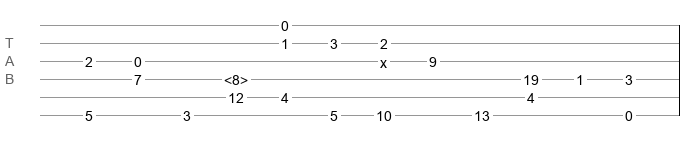0: (134, 54, 142, 64), (281, 18, 289, 28), (625, 108, 633, 118)
1: (281, 36, 289, 46), (576, 72, 584, 82)
10: (376, 108, 392, 118)
12: (228, 90, 244, 100)
13: (474, 108, 490, 118)
19: (523, 72, 539, 82)
2: (85, 54, 93, 64), (380, 36, 388, 46)
3: (183, 108, 191, 118), (330, 36, 338, 46), (625, 72, 633, 82)
4: (281, 90, 289, 100), (527, 90, 535, 100)
5: (85, 108, 93, 118), (330, 108, 338, 118)
7: (134, 72, 142, 82)
9: (429, 54, 437, 64)
harmonic: (224, 72, 248, 82)
x: (380, 55, 387, 63)
